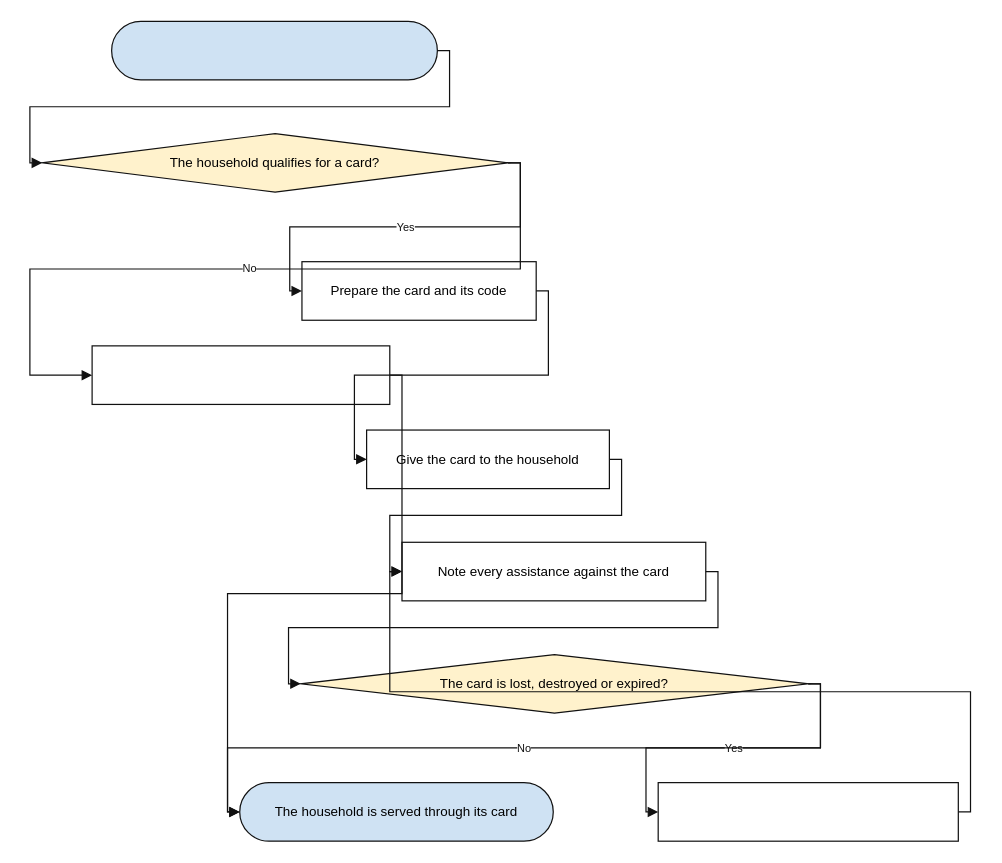
Some shapes in this 1002 by 863 pixel diagram are drawn without their labels. The box of each missing label's shape, as (x1, y1, x2, y2) in pixels:
A household comes under the office's care: (110, 20, 437, 80)
Explain the reason and record the visit: (91, 345, 390, 404)
Replace the card under the same code: (657, 781, 958, 841)
